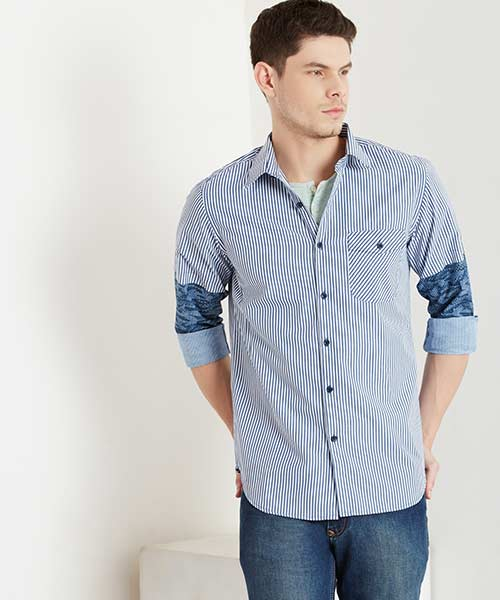Shirt: (165, 131, 500, 517)
